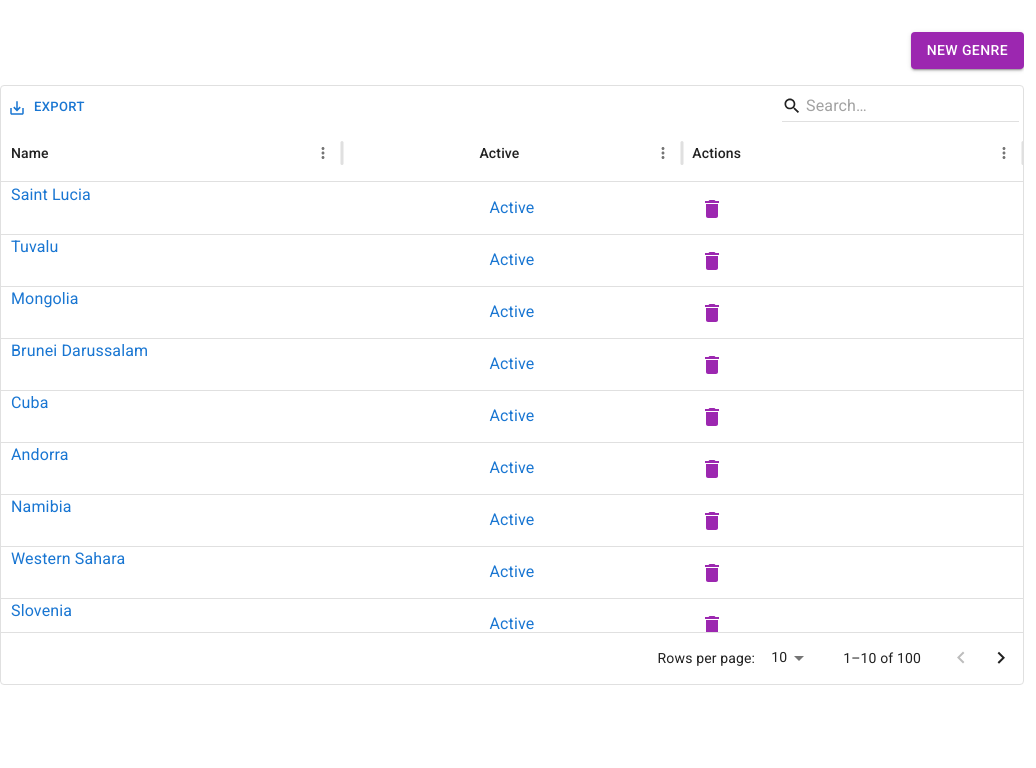
it: Test ListGenre page › should handle delete genre error
Expected: the text "Saint Lucia" is shown, x1=11 y1=184 x2=91 y2=204
Click the button with test id "delete-genre-button" in the row of "Saint Lucia". click: {"x": 712, "y": 209}
box: x1=692 y1=189 x2=732 y2=229
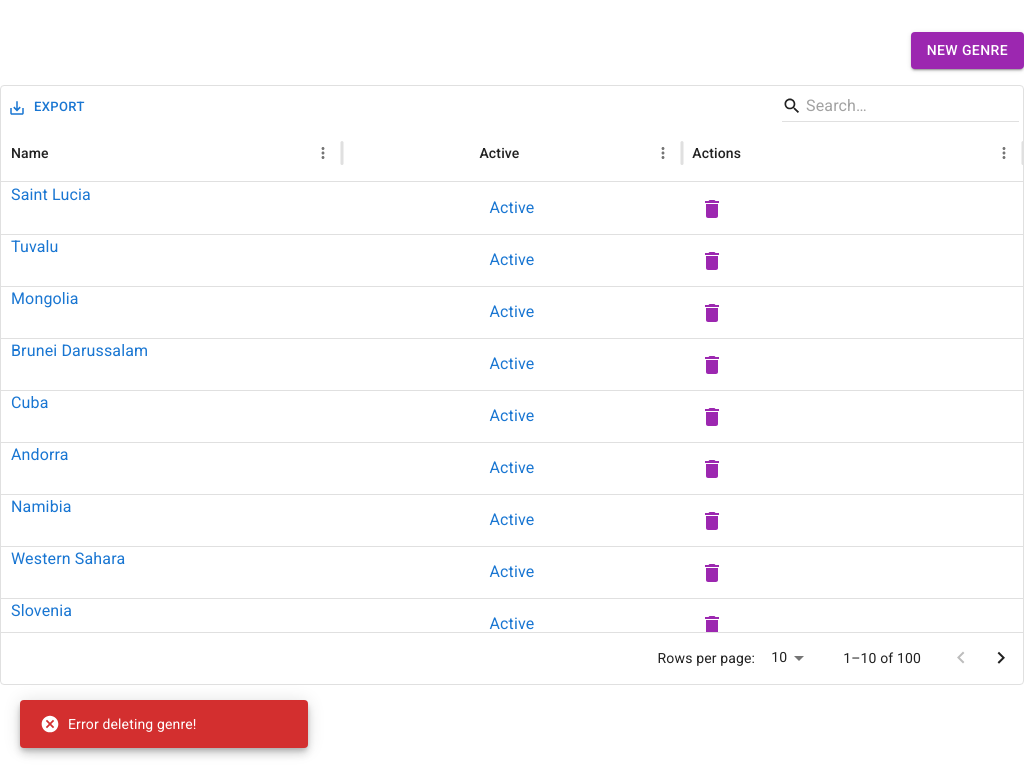
Result: the text "Error deleting genre!" is shown at x1=40 y1=714 x2=196 y2=734
